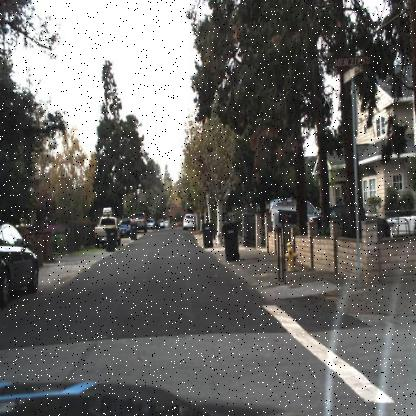car: (284, 194, 386, 246), (0, 223, 38, 310), (241, 189, 299, 229), (90, 211, 123, 255), (115, 216, 136, 243), (118, 215, 139, 242), (180, 209, 198, 233), (131, 210, 147, 233), (146, 216, 158, 232), (156, 218, 165, 229), (162, 218, 170, 229)
